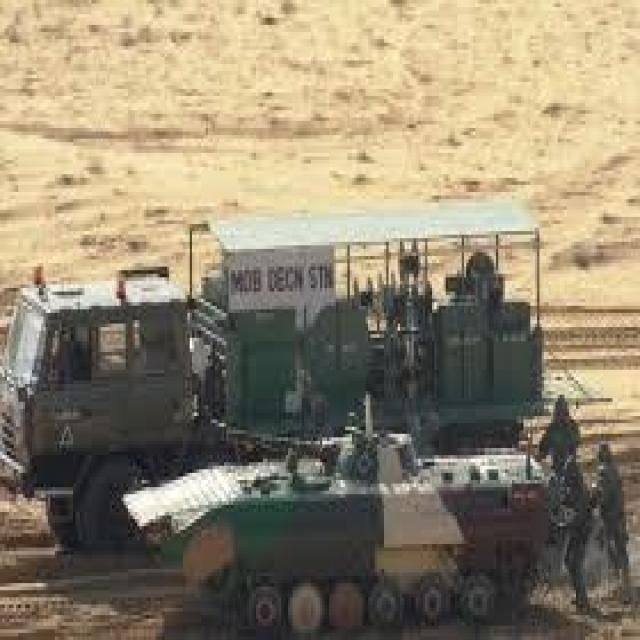Tanks: (118, 420, 550, 626)
